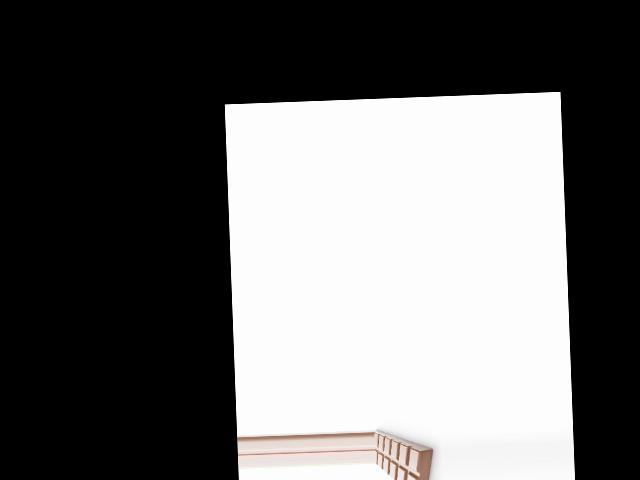chocolate: (374, 423, 436, 480)
